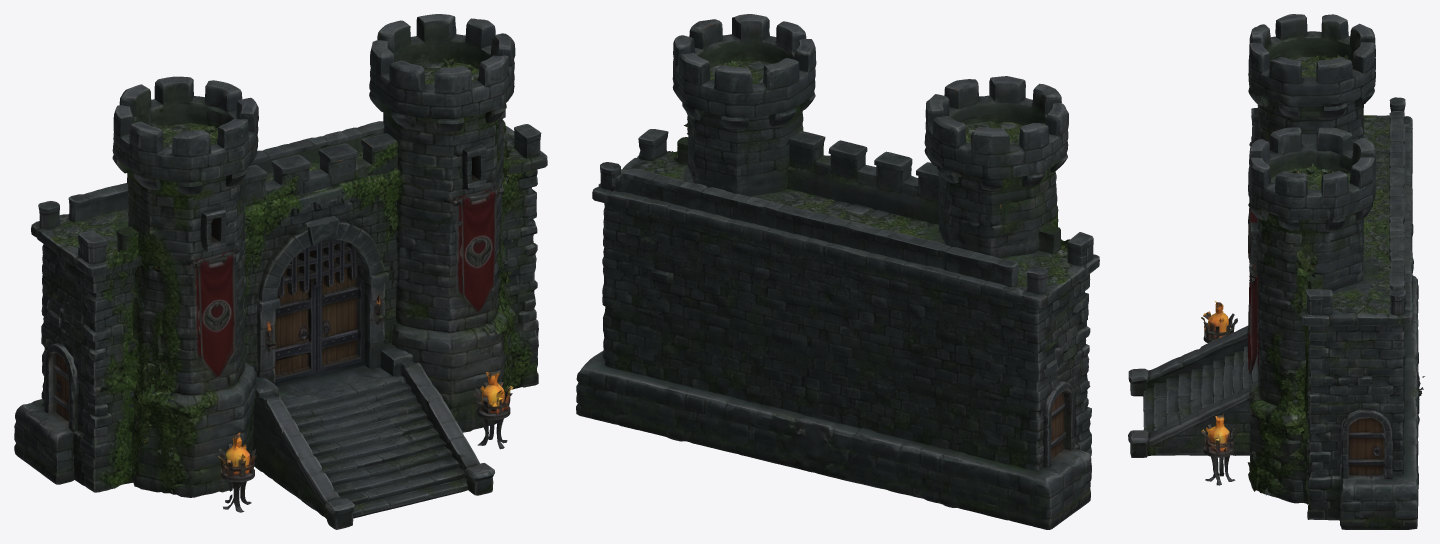
Rendered from team_tether_stronghold_gate.glb.
3 views of the same model, side by side, from view 1: azimuth 30°, elevation 25°; view 2: azimuth 150°, elevation 25°; view 3: azimuth 270°, elevation 25° (orthographic). The views are drawn at different scales.
Parts seen in each view (by area): view 1: Mesh_0; view 2: Mesh_0; view 3: Mesh_0.
Boxes of the visible parts, bbox=[...] form: Mesh_0: bbox=[14, 14, 547, 529]; Mesh_0: bbox=[576, 14, 1099, 529]; Mesh_0: bbox=[1128, 14, 1424, 529].
Size of the model in its own units: 1.9 by 1.36 by 1.12.
1 material, 1 textured.
